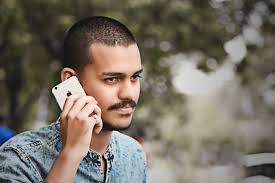phone: (53, 76, 98, 134)
talk: (50, 64, 144, 156)
